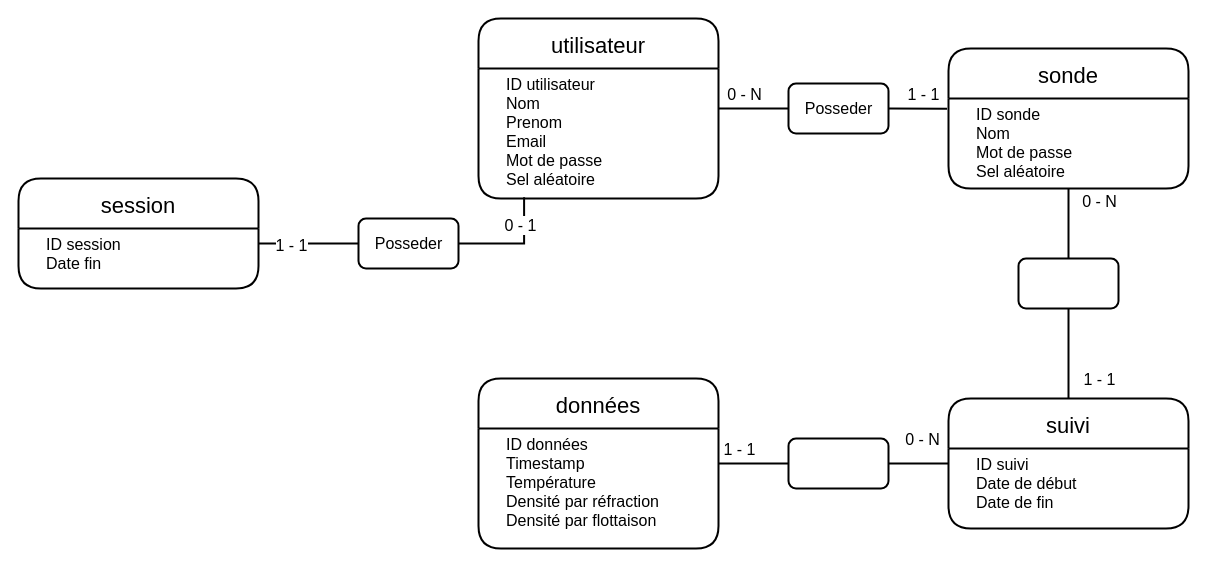
Image size: 1206x566. Some labels were removed from this diagram. The centre of each missing label's shape, as x and y in pixels:
"Gerer" belongs at (x=1068, y=283).
"Stocker" belongs at (x=838, y=463).
